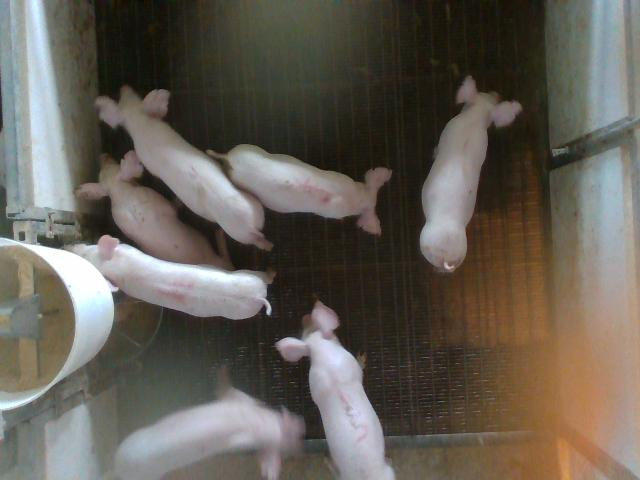pig-3: (276, 301, 395, 478)
pig-4: (70, 235, 274, 319)
pig-5: (208, 144, 391, 234)
